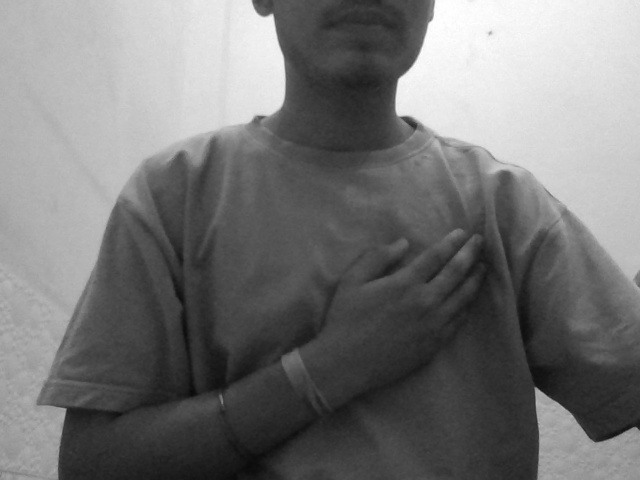Sorry: (298, 224, 518, 432)
